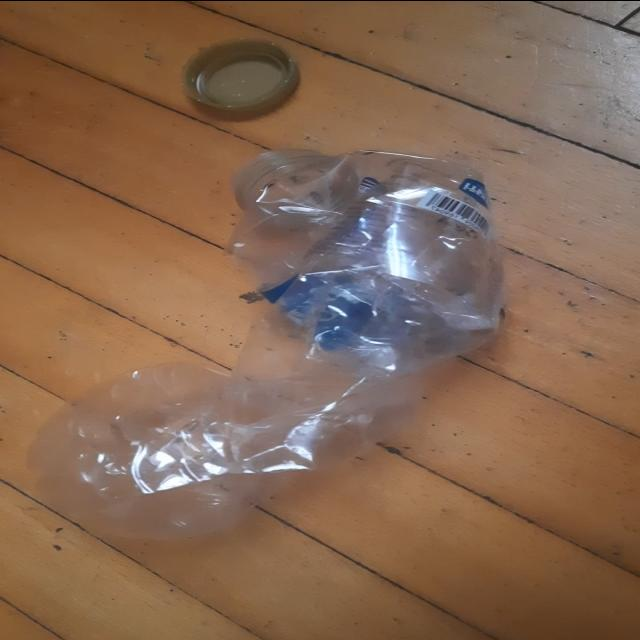Plastic: (25, 151, 505, 539)
